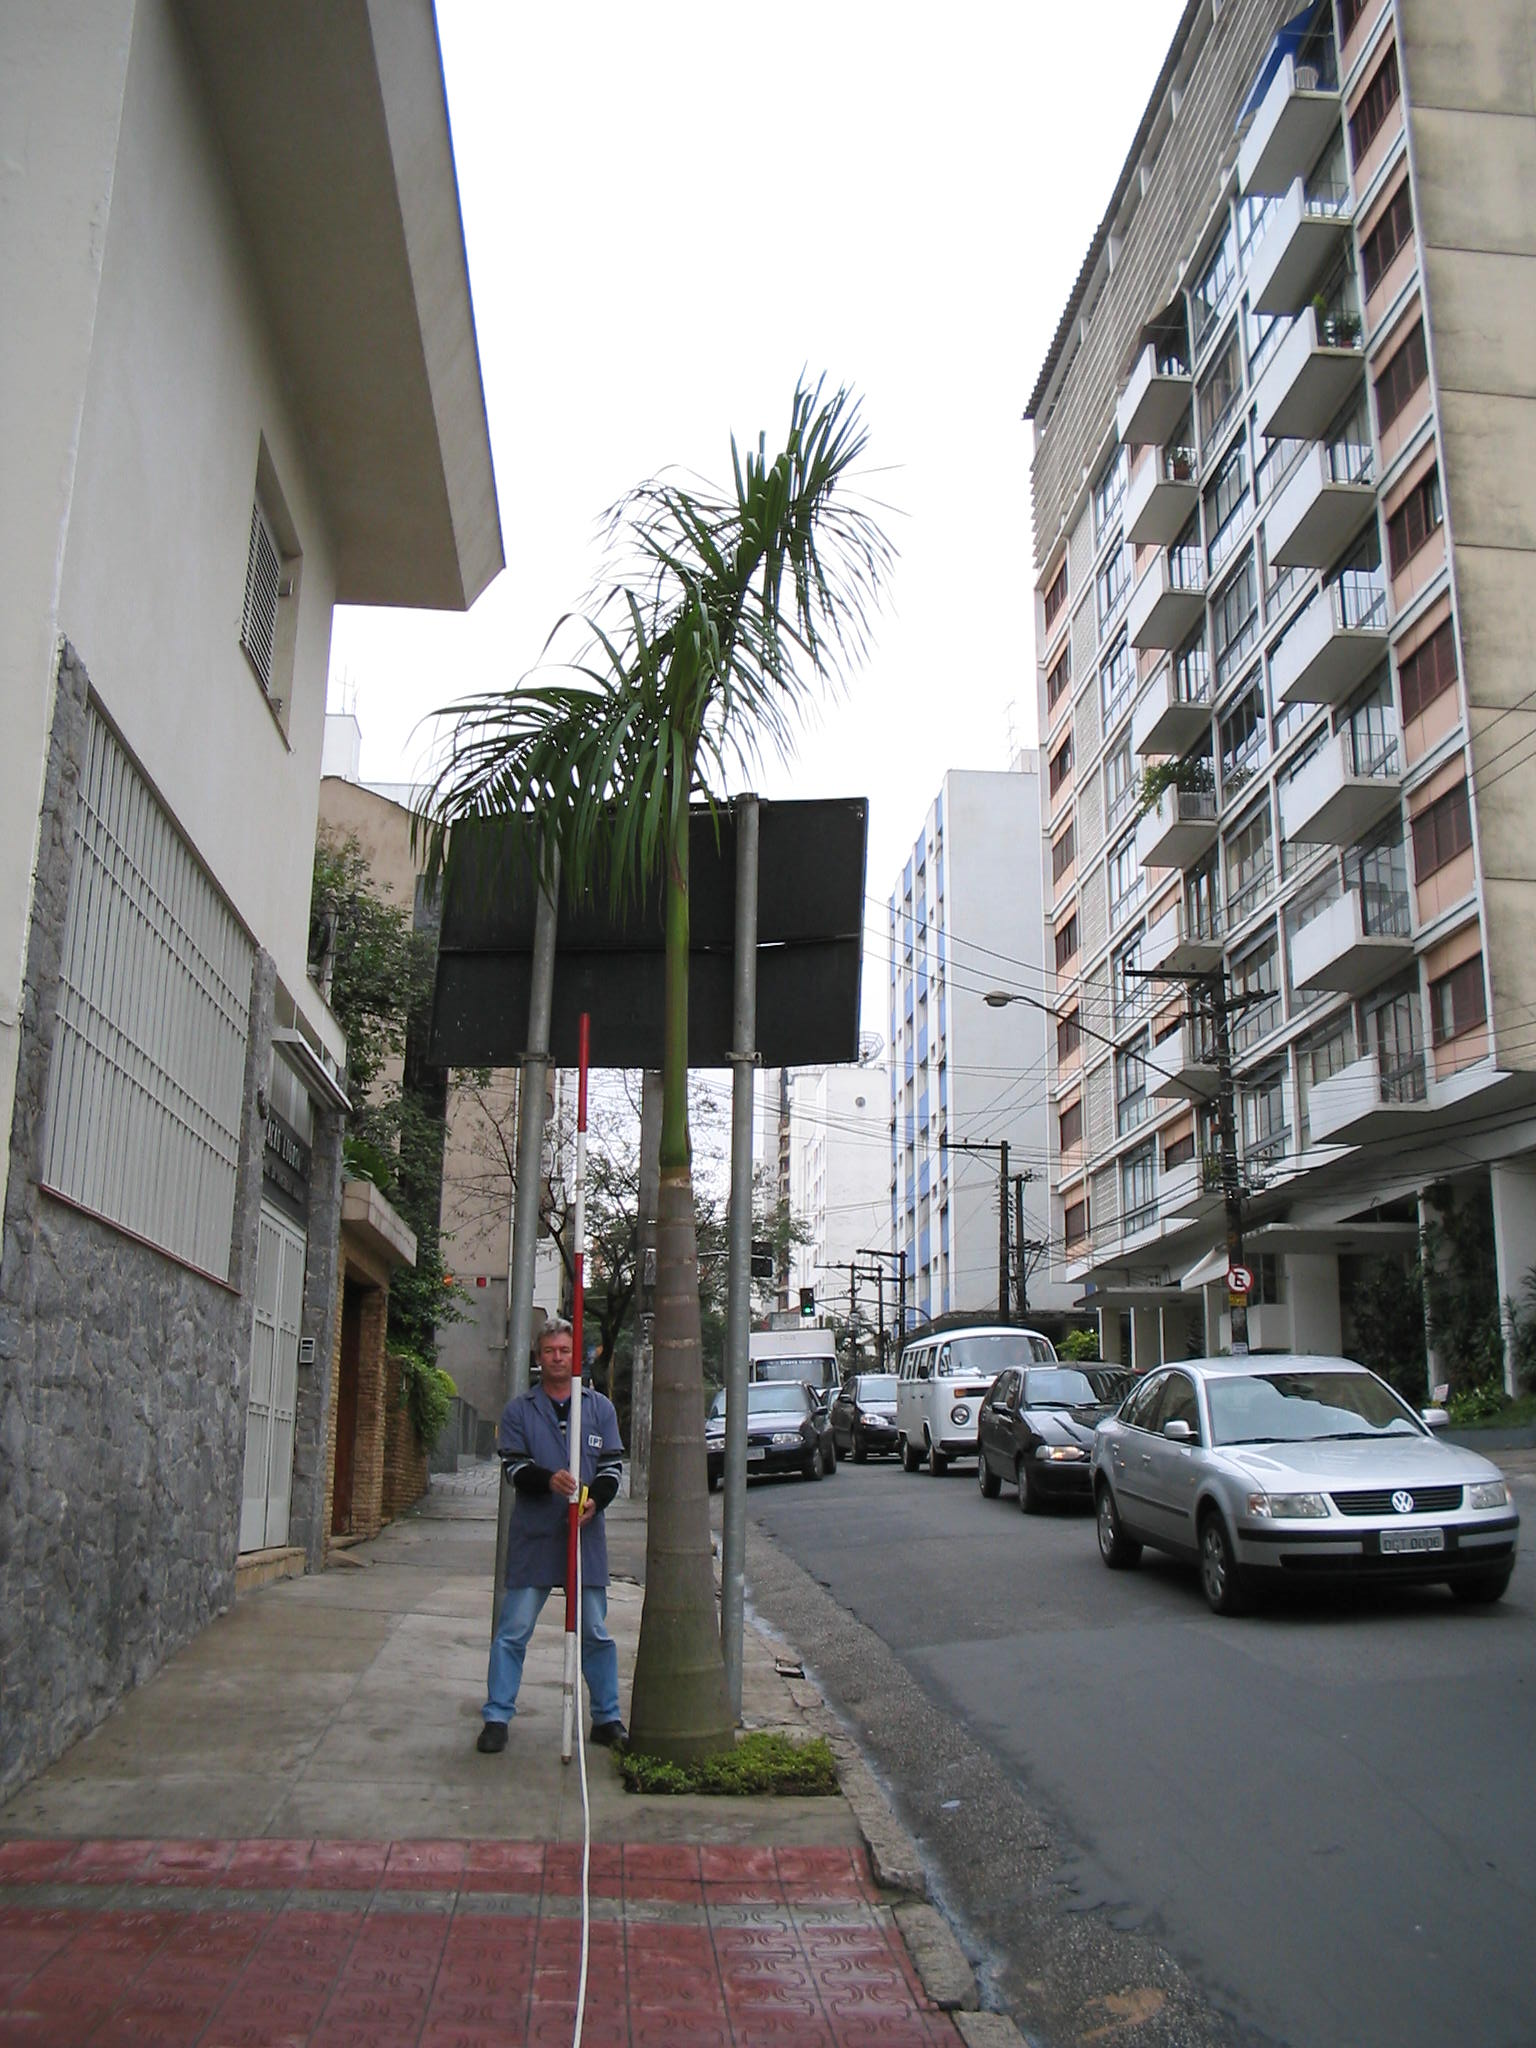crown: (402, 371, 910, 968)
stem: (611, 974, 766, 1761)
stick: (536, 1013, 616, 1767)
tree: (394, 363, 920, 1763)
